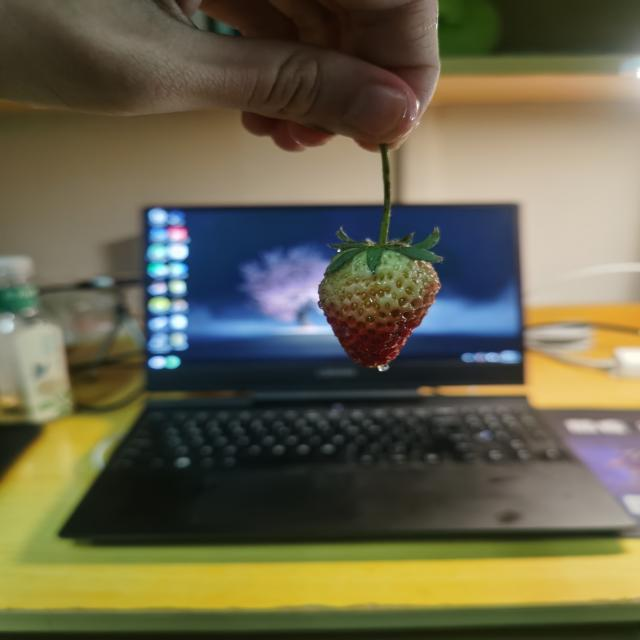stem: (378, 182, 391, 247)
strawberry: (318, 242, 442, 368)
